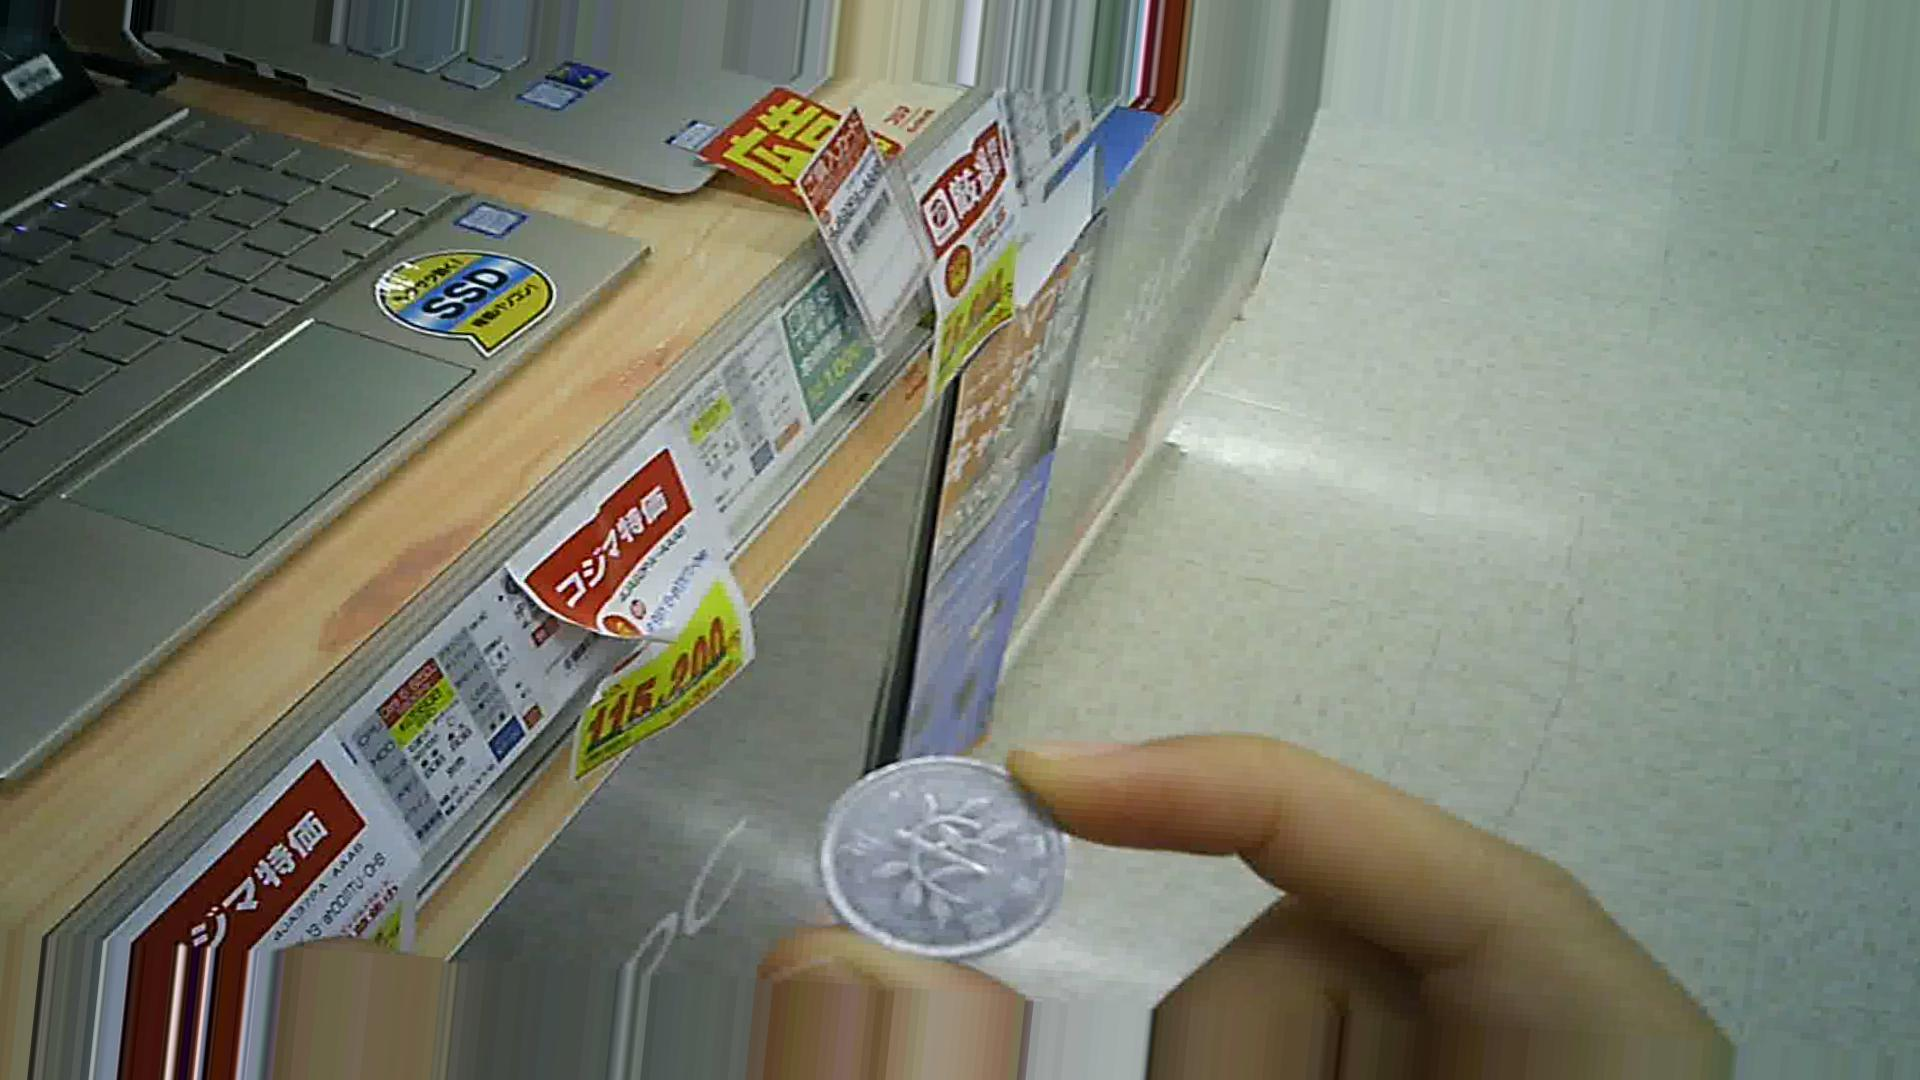1 Yen: (819, 752, 1064, 984)
